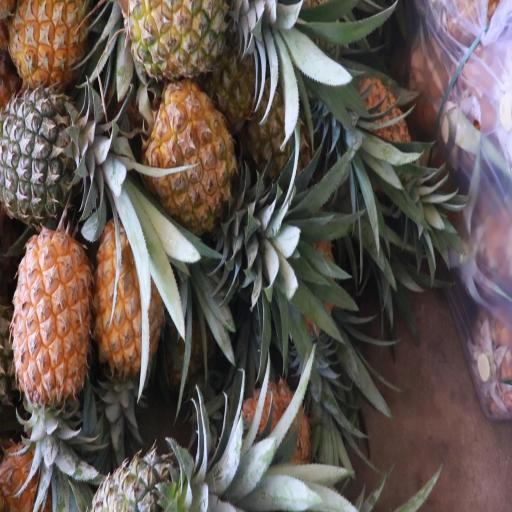Pineapple - v8 v1: (146, 74, 264, 214), (16, 218, 88, 431), (96, 210, 168, 374), (130, 0, 257, 86)
